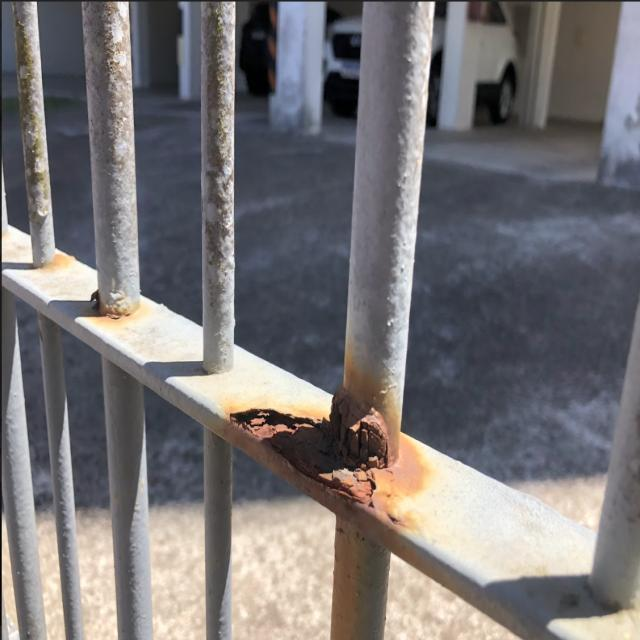Corrosion: (221, 376, 432, 560), (85, 289, 146, 323)
